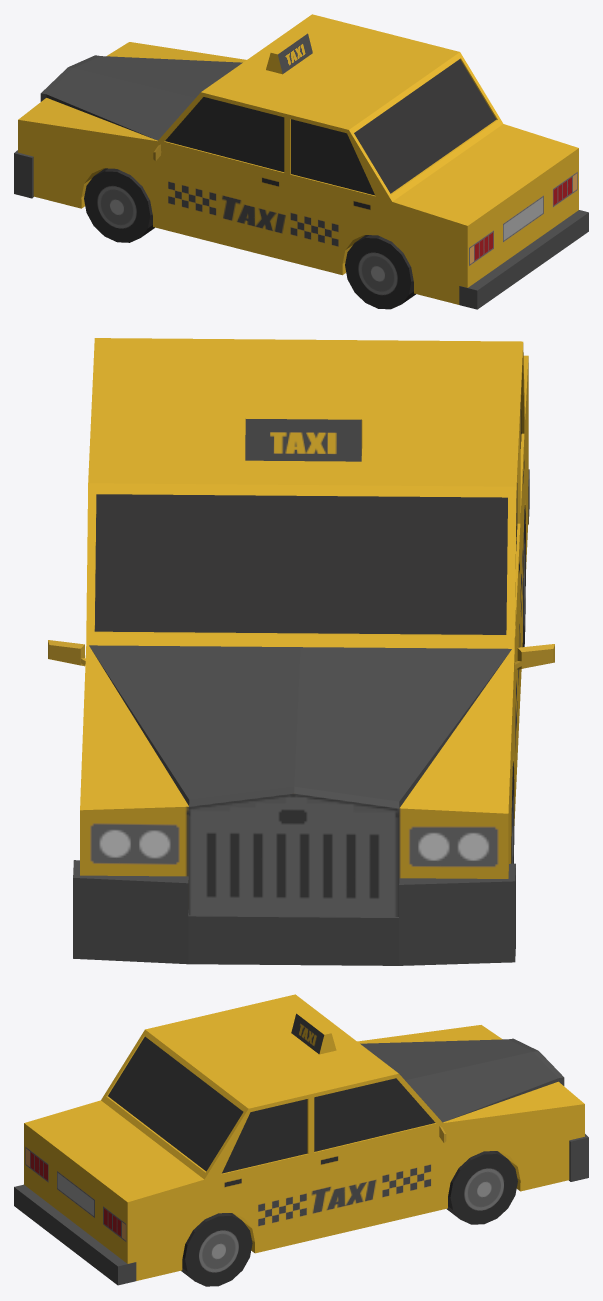
Rendered from Car8_taxi.glb.
The picture shows the model from 3 angles, top to bottom: view 1: azimuth 30°, elevation 25°; view 2: azimuth 150°, elevation 25°; view 3: azimuth 270°, elevation 25°; orthographic projection. The views are drawn at different scales.
Parts seen in each view (by area): view 1: Vehicle_Taxi.001; view 2: Vehicle_Taxi.001; view 3: Vehicle_Taxi.001.
Part boxes in pixels (x1,y1,x2,y2): Vehicle_Taxi.001: [14, 14, 588, 309]; Vehicle_Taxi.001: [48, 338, 554, 965]; Vehicle_Taxi.001: [14, 994, 588, 1286].
Bounding box in the file's own units: 1.31 × 0.6084 × 1.68.
1 material, 1 textured.
